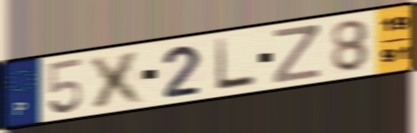2: (157, 41, 207, 103)
5: (46, 56, 83, 115)
8: (328, 17, 371, 74)
L: (213, 36, 258, 93)
X: (86, 47, 150, 111)
Z: (271, 23, 323, 86)
